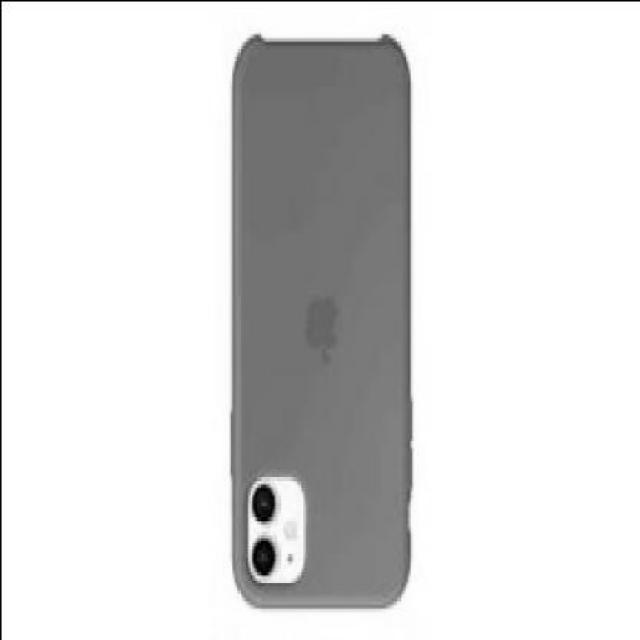fake: (228, 29, 412, 611)
